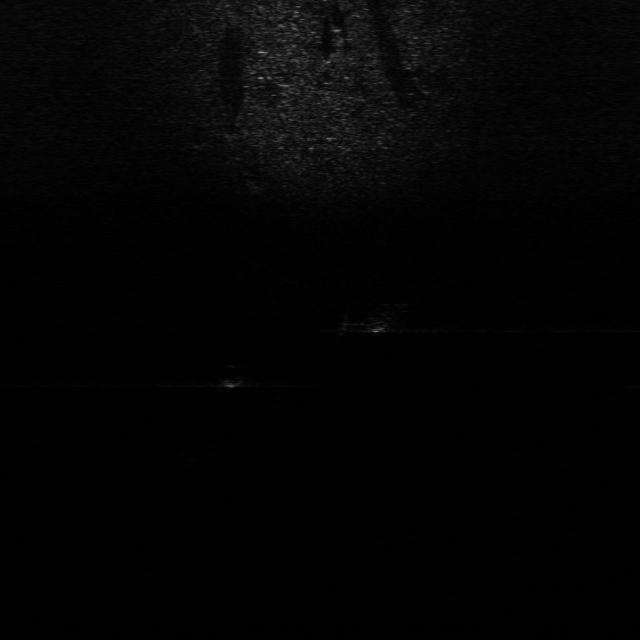ball: (210, 362, 252, 391)
human body: (333, 302, 411, 336)
